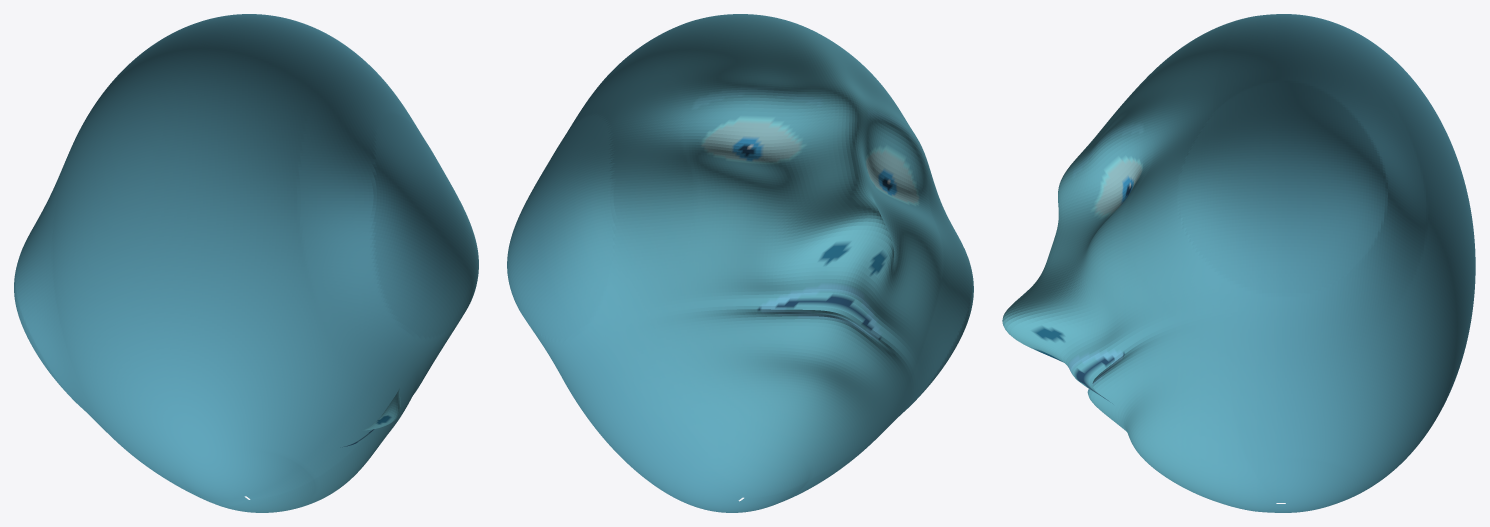
File: suu-face-v4.glb
3 views of the same model, side by side, from view 1: azimuth 30°, elevation 25°; view 2: azimuth 150°, elevation 25°; view 3: azimuth 270°, elevation 25° (orthographic).
Parts seen in each view (by area): view 1: world; view 2: world; view 3: world.
Part boxes in pixels (<box>): world: <box>14,14,478,512</box>; world: <box>507,14,973,512</box>; world: <box>1002,14,1475,512</box>.
Bounding box in the file's own units: 2.18 × 2.44 × 2.21.
